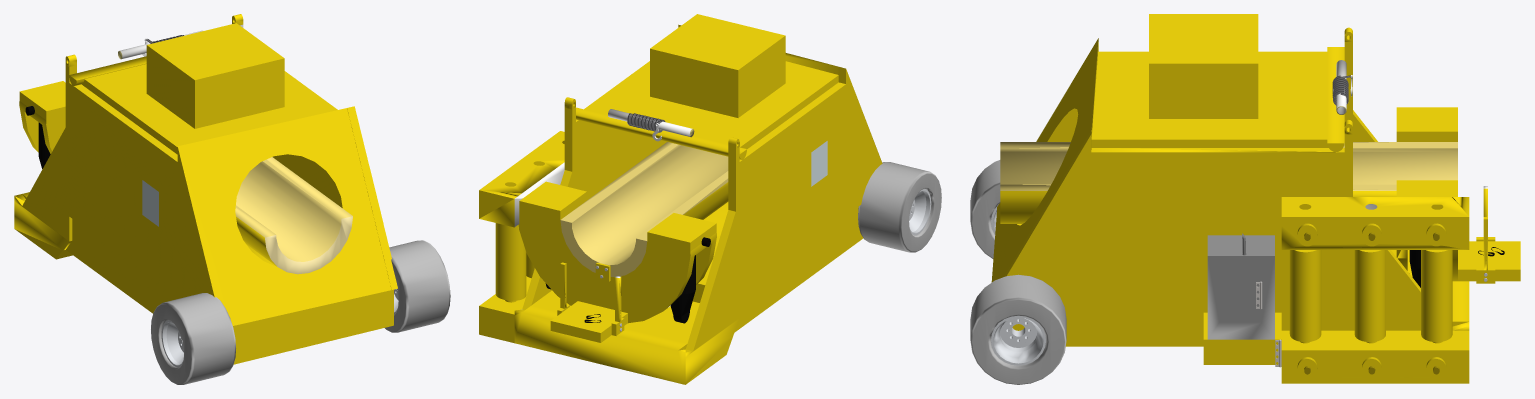
Rendered from PipeBenderImport.fbx.
3 views of the same model, side by side, from view 1: azimuth 30°, elevation 25°; view 2: azimuth 150°, elevation 25°; view 3: azimuth 270°, elevation 25° (orthographic). The views are drawn at different scales.
Visible parts, largest first — view 1: PipeBender, LeftWheel, RightWheel; view 2: PipeBender, LeftWheel; view 3: PipeBender, RightWheel, LeftWheel.
Boxes of the visible parts, x1,y1,x2,y2 form: PipeBender: (14, 14, 397, 364); LeftWheel: (151, 293, 235, 384); RightWheel: (385, 240, 450, 332); PipeBender: (479, 14, 882, 384); LeftWheel: (858, 162, 941, 252); PipeBender: (991, 14, 1520, 383); RightWheel: (970, 274, 1066, 384); LeftWheel: (970, 160, 1000, 258).
Size of the model in its own units: 417 by 367 by 665.
